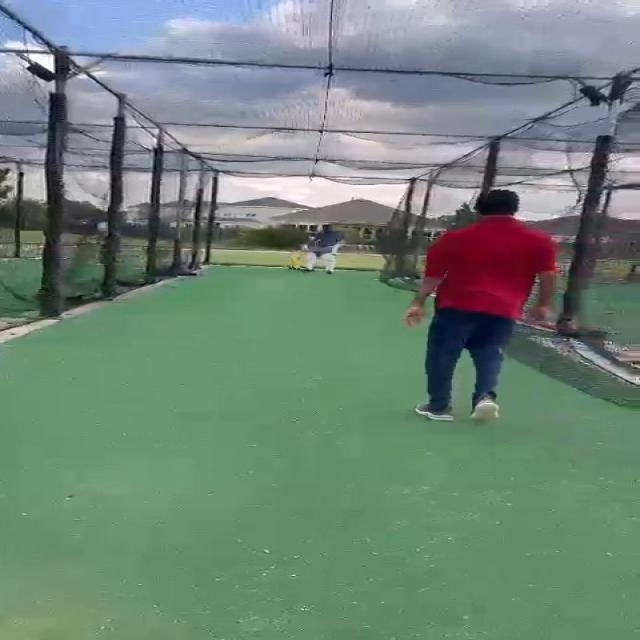batsman: (290, 224, 348, 275)
